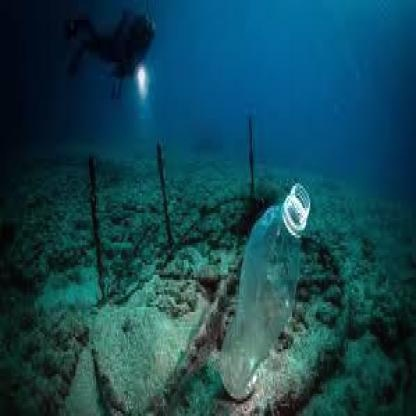pbottle: (214, 168, 314, 402)
